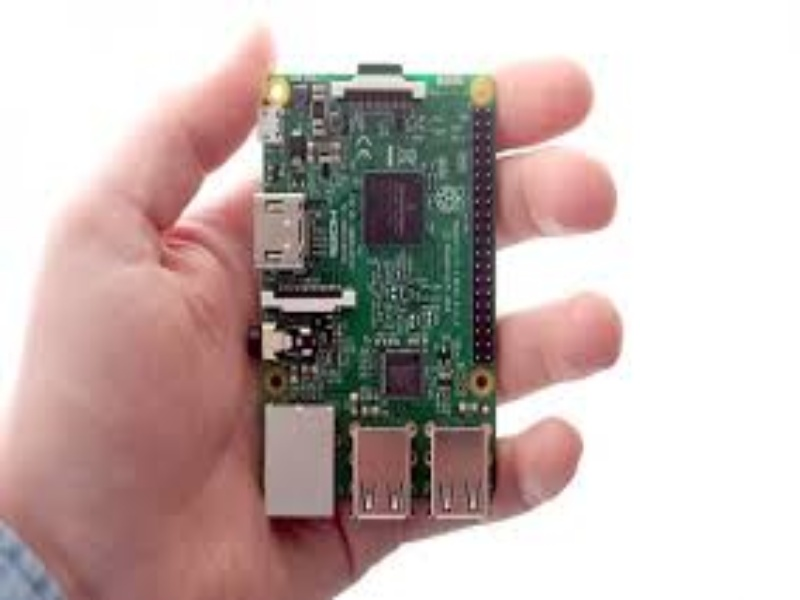raspberrypi: (237, 52, 512, 534)
